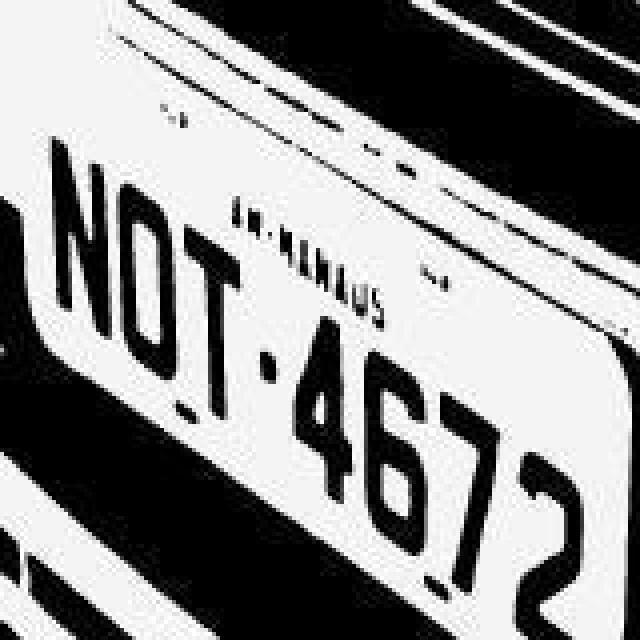2: (508, 434, 596, 638)
4: (284, 306, 356, 518)
6: (354, 338, 438, 558)
7: (432, 374, 504, 602)
N: (36, 126, 116, 346)
O: (114, 172, 182, 388)
T: (180, 220, 244, 436)
